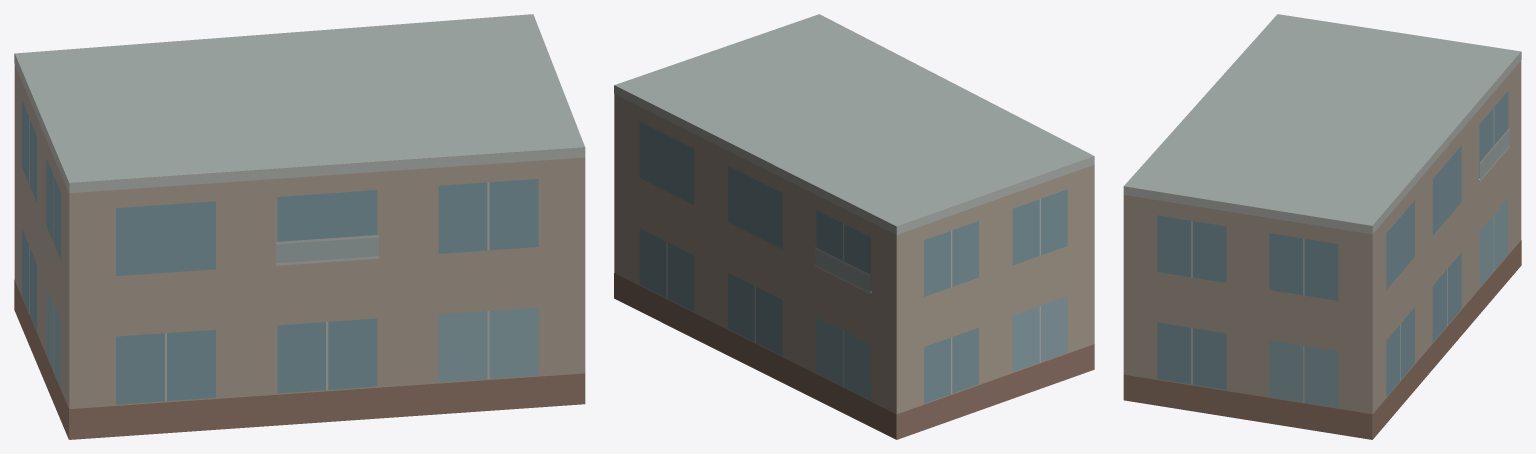
File: survey-upis-32811052.glb
3 views of the same model, side by side, from view 1: azimuth 30°, elevation 25°; view 2: azimuth 150°, elevation 25°; view 3: azimuth 270°, elevation 25° (orthographic). The views are drawn at different scales.
Visible parts, largest first — view 1: survey-upis-32811052.tmp; view 2: survey-upis-32811052.tmp; view 3: survey-upis-32811052.tmp.
Part boxes in pixels (left/top/right/bottom): survey-upis-32811052.tmp: left=14, top=14, right=585, bottom=439; survey-upis-32811052.tmp: left=614, top=14, right=1094, bottom=439; survey-upis-32811052.tmp: left=1123, top=14, right=1521, bottom=439.
Bounding box in the file's own units: 12.96 × 6.1 × 10.29.
